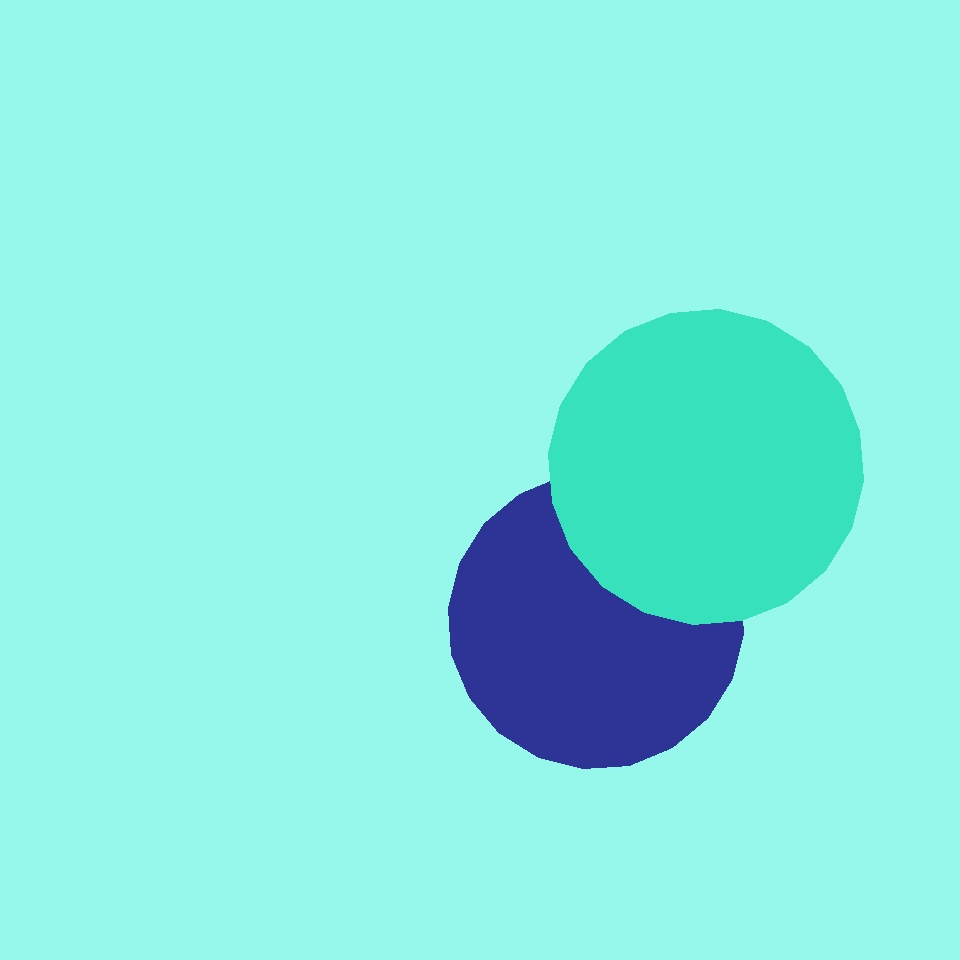triangle: (548, 310, 864, 624), (448, 473, 744, 768)
